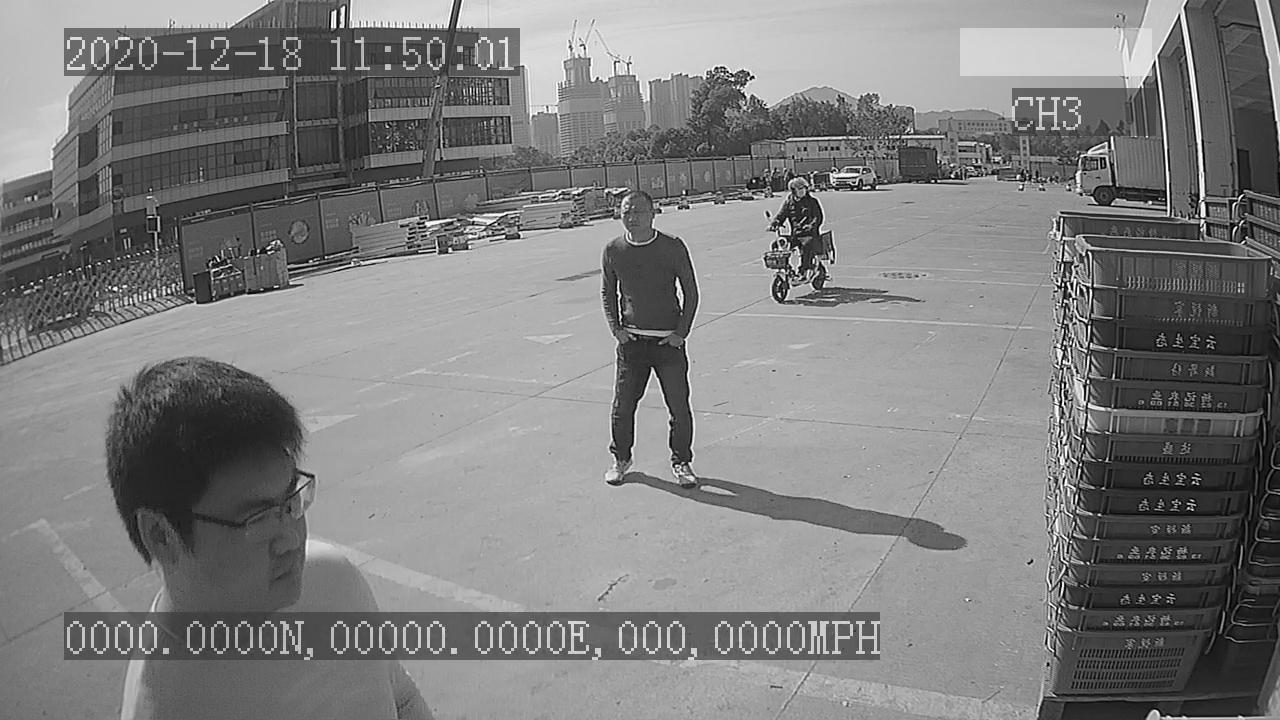person: (595, 188, 709, 494)
